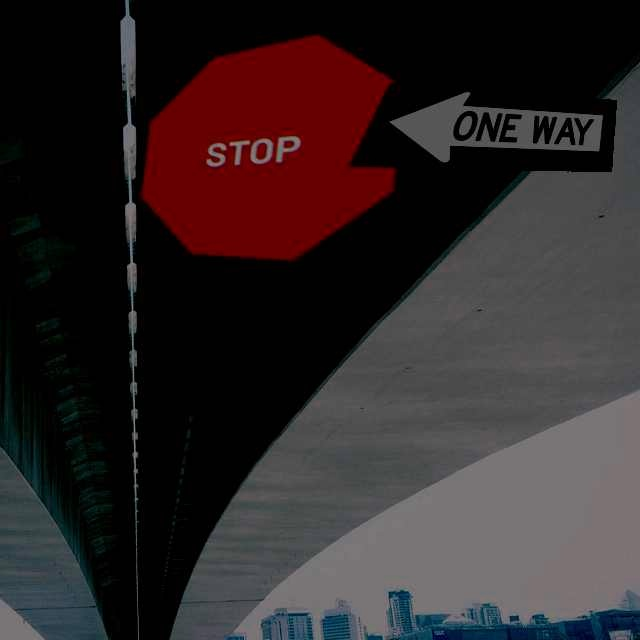ONE_WAY_ left: (348, 81, 617, 172)
STOP: (139, 32, 408, 264)
